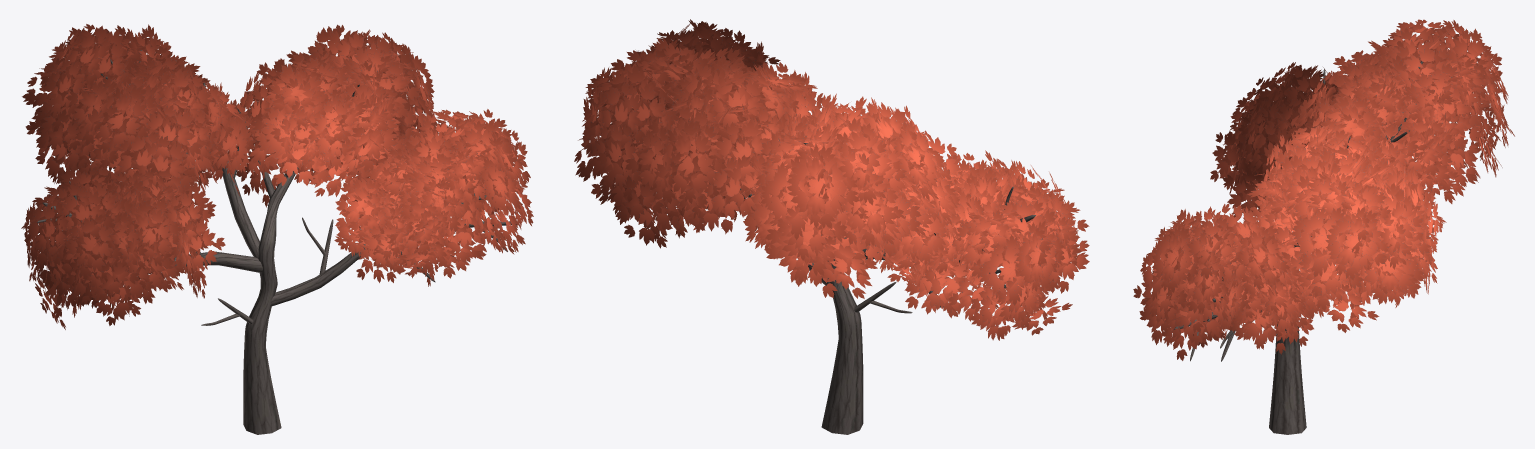
File: MapleTree_3.glb
3 renders of one model, left to right at view 1: azimuth 30°, elevation 25°; view 2: azimuth 150°, elevation 25°; view 3: azimuth 270°, elevation 25°, orthographic. The views are drawn at different scales.
Parts seen in each view (by area): view 1: MapleTree_3; view 2: MapleTree_3; view 3: MapleTree_3.
Part boxes in pixels (x1,y1,x2,y2): MapleTree_3: (21, 24, 533, 434); MapleTree_3: (574, 19, 1089, 434); MapleTree_3: (1133, 19, 1514, 434).
Size of the model in its own units: 8.98 by 6.99 by 6.61.
2 materials, 2 textured.
